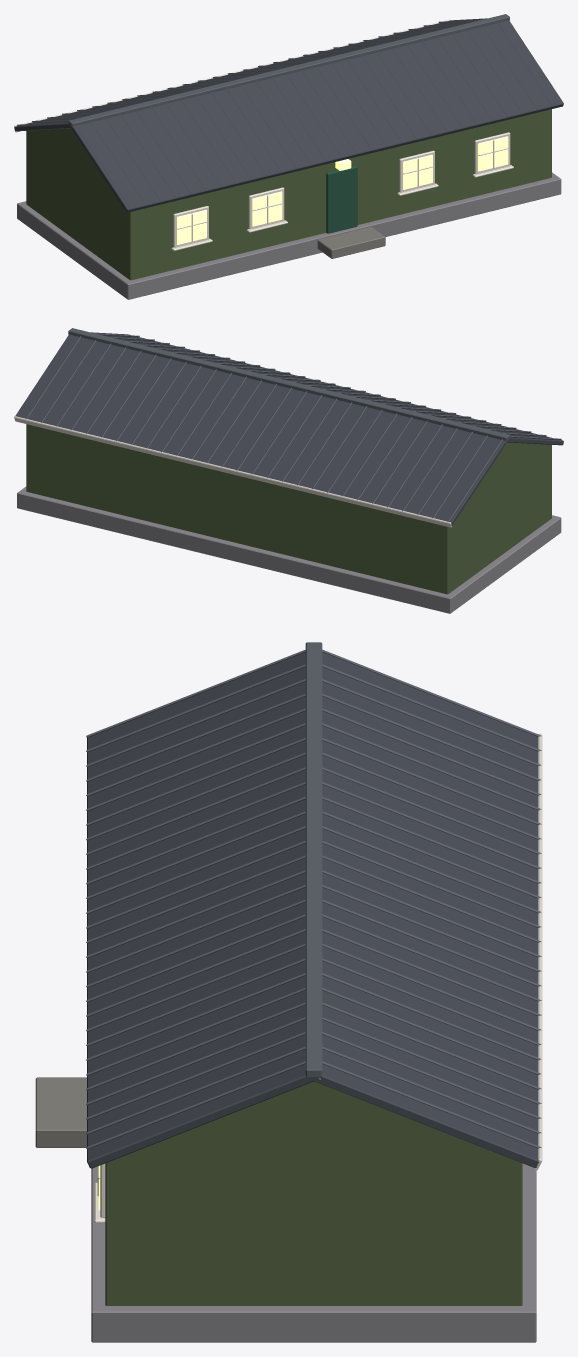
File: barack.glb
3 renders of one model, top to bottom at view 1: azimuth 30°, elevation 25°; view 2: azimuth 150°, elevation 25°; view 3: azimuth 270°, elevation 25°, orthographic. The views are drawn at different scales.
Parts seen in each view (by area): view 1: barack; view 2: barack; view 3: barack.
Boxes of the visible parts, x1,y1,x2,y2 form: barack: [14, 14, 563, 299]; barack: [14, 328, 563, 613]; barack: [35, 642, 542, 1342].
Bounding box in the file's own units: 14.55 × 4.38 × 7.28.
